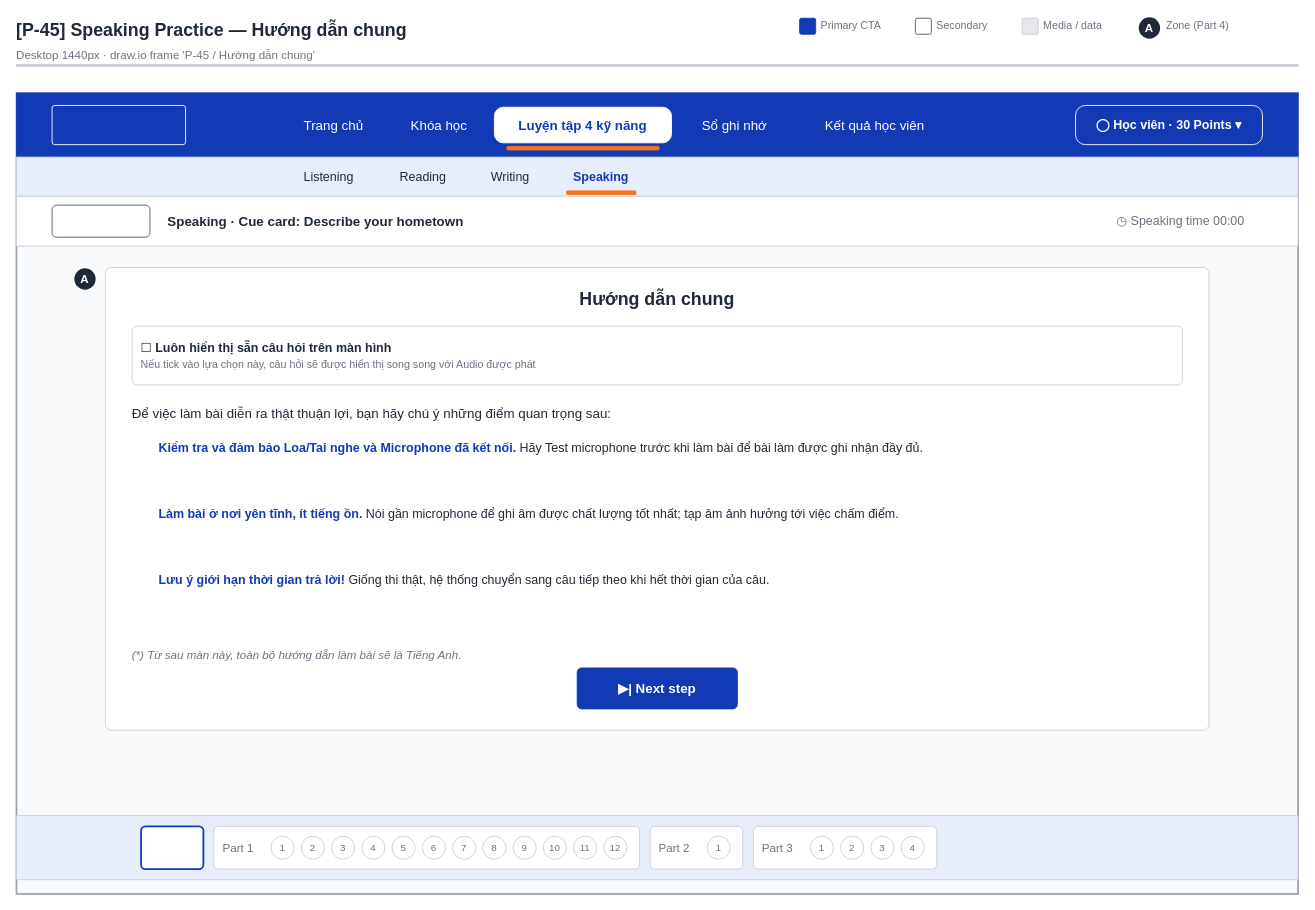
Image size: 1315x910. Some labels were removed from this diagram. The shapes that lost their labels are listed below. From the top down, each one's centre as x and y in pixels, then its label:
(118,125): IELTS Space logo
(100,220): ← Thoát
(172,847): Intro
